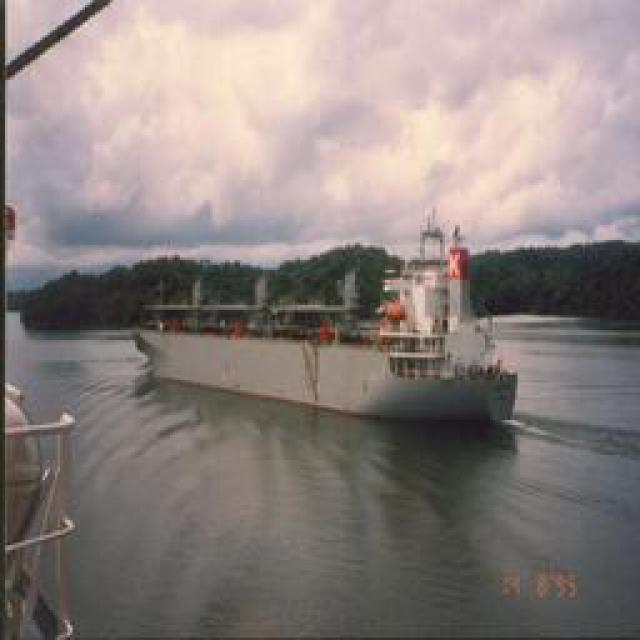Ship: (136, 243, 519, 428)
